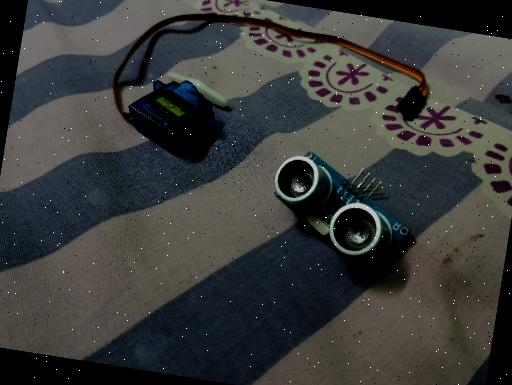Motor: (122, 65, 232, 161)
sensor: (260, 144, 420, 285)
